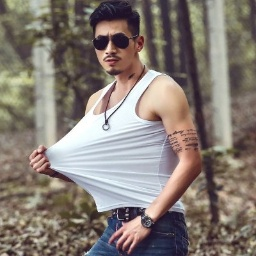face: (88, 1, 145, 76)
